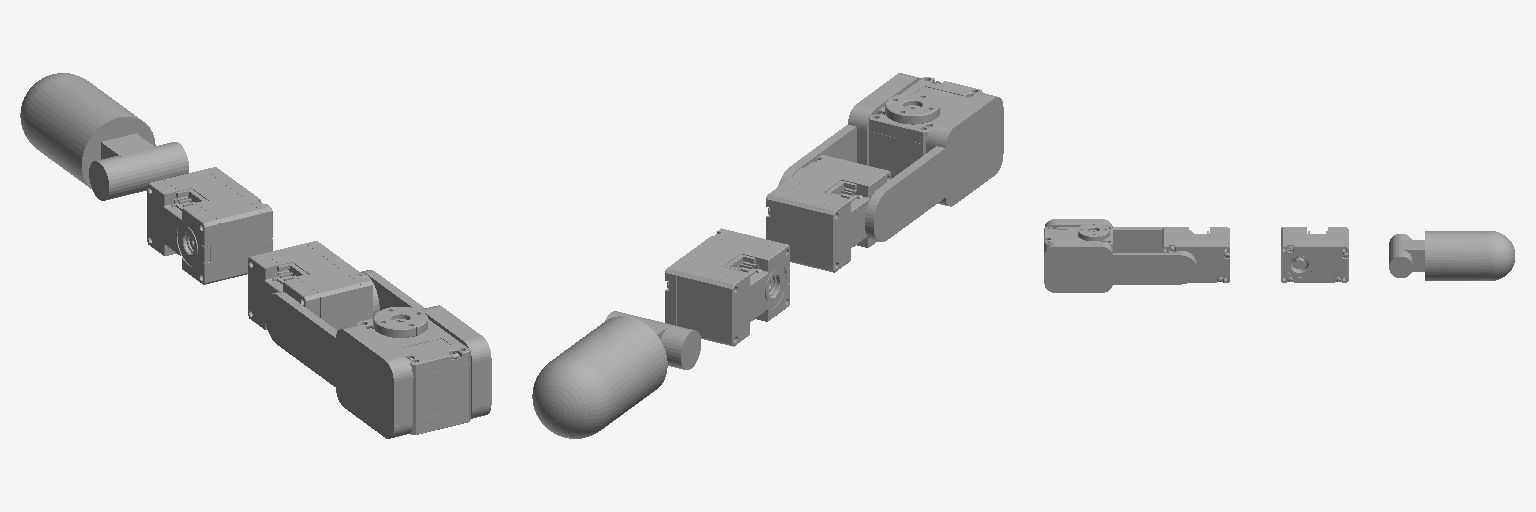
URDF robot description (URDF_finger_llll):
<?xml version="1.0" ?>
<robot name="URDF_finger_llll" xmlns:xacro="http://www.ros.org/wiki/xacro">

<link name="base_link">
  <inertial>
    <origin xyz="5.810609836920757e-14 -3.5557377263056094e-06 0.004698273696031688" rpy="0 0 0"/>
    <mass value="0.004531103214243681"/>
    <inertia ixx="0.0" iyy="0.0" izz="0.0" ixy="-0.0" iyz="-0.0" ixz="-0.0"/>
  </inertial>
  <visual>
    <origin xyz="0 0 0" rpy="0 0 0"/>
    <geometry>
      <mesh filename="package://longest/meshes/base_link.stl" scale="0.001 0.001 0.001"/>
    </geometry>
    <material name="silver">
        <color rgba="0.7 0.7 0.7 1"/>
      </material>
  </visual>
  <collision>
    <origin xyz="0 0 0" rpy="0 0 0"/>
    <geometry>
      <mesh filename="package://longest/meshes/base_link.stl" scale="0.001 0.001 0.001"/>
    </geometry>
  </collision>
</link>

<link name="MCP_spread_motor_1">
  <inertial>
    <origin xyz="4.40257654920099e-06 -0.0075382982459979535 -0.011349379478781948" rpy="0 0 0"/>
    <mass value="0.11379089624899982"/>
    <inertia ixx="1.6e-05" iyy="8e-06" izz="1.5e-05" ixy="0.0" iyz="0.0" ixz="-0.0"/>
  </inertial>
  <visual>
    <origin xyz="-0.0 0.0 -0.0036" rpy="0 0 0"/>
    <geometry>
      <mesh filename="package://longest/meshes/MCP_spread_motor_1.stl" scale="0.001 0.001 0.001"/>
    </geometry>
    <material name="silver">
        <color rgba="0.7 0.7 0.7 1"/>
      </material>
  </visual>
  <collision>
    <origin xyz="-0.0 0.0 -0.0036" rpy="0 0 0"/>
    <geometry>
      <mesh filename="package://longest/meshes/MCP_spread_motor_1.stl" scale="0.001 0.001 0.001"/>
    </geometry>
  </collision>
</link>

<link name="MCP_motor_1">
  <inertial>
    <origin xyz="-0.011349379464972085 0.00753829824657392 4.402565036948358e-06" rpy="0 0 0"/>
    <mass value="0.11379089638693089"/>
    <inertia ixx="1.5e-05" iyy="8e-06" izz="1.6e-05" ixy="-0.0" iyz="-0.0" ixz="-0.0"/>
  </inertial>
  <visual>
    <origin xyz="-0.0106 -0.0435 0.008" rpy="0 0 0"/>
    <geometry>
      <mesh filename="package://longest/meshes/MCP_motor_1.stl" scale="0.001 0.001 0.001"/>
    </geometry>
    <material name="silver">
        <color rgba="0.7 0.7 0.7 1"/>
      </material>
  </visual>
  <collision>
    <origin xyz="-0.0106 -0.0435 0.008" rpy="0 0 0"/>
    <geometry>
      <mesh filename="package://longest/meshes/MCP_motor_1.stl" scale="0.001 0.001 0.001"/>
    </geometry>
  </collision>
</link>

<link name="proximal_1">
  <inertial>
    <origin xyz="-0.008169135912463519 0.03727461554779869 -3.230055112268815e-15" rpy="0 0 0"/>
    <mass value="0.05275493771588791"/>
    <inertia ixx="1.6e-05" iyy="1.2e-05" izz="2.6e-05" ixy="0.0" iyz="-0.0" ixz="-0.0"/>
  </inertial>
  <visual>
    <origin xyz="-0.0105 -0.0435 0.008" rpy="0 0 0"/>
    <geometry>
      <mesh filename="package://longest/meshes/proximal_1.stl" scale="0.001 0.001 0.001"/>
    </geometry>
    <material name="silver">
        <color rgba="0.7 0.7 0.7 1"/>
      </material>
  </visual>
  <collision>
    <origin xyz="-0.0105 -0.0435 0.008" rpy="0 0 0"/>
    <geometry>
      <mesh filename="package://longest/meshes/proximal_1.stl" scale="0.001 0.001 0.001"/>
    </geometry>
  </collision>
</link>

<link name="PIP_DIP_motor_1">
  <inertial>
    <origin xyz="-0.011349379464972083 0.007538298247408273 4.402565036993461e-06" rpy="0 0 0"/>
    <mass value="0.11379089638693095"/>
    <inertia ixx="1.5e-05" iyy="8e-06" izz="1.6e-05" ixy="-0.0" iyz="-0.0" ixz="-0.0"/>
  </inertial>
  <visual>
    <origin xyz="-0.0106 -0.1025 0.008" rpy="0 0 0"/>
    <geometry>
      <mesh filename="package://longest/meshes/PIP_DIP_motor_1.stl" scale="0.001 0.001 0.001"/>
    </geometry>
    <material name="silver">
        <color rgba="0.7 0.7 0.7 1"/>
      </material>
  </visual>
  <collision>
    <origin xyz="-0.0106 -0.1025 0.008" rpy="0 0 0"/>
    <geometry>
      <mesh filename="package://longest/meshes/PIP_DIP_motor_1.stl" scale="0.001 0.001 0.001"/>
    </geometry>
  </collision>
</link>

<link name="middle_1">
  <inertial>
    <origin xyz="-0.008827081354573583 0.03128096306151058 1.214306433183765e-17" rpy="0 0 0"/>
    <mass value="0.041818234501644305"/>
    <inertia ixx="9e-06" iyy="1e-05" izz="1.6e-05" ixy="1e-06" iyz="-0.0" ixz="-0.0"/>
  </inertial>
  <visual>
    <origin xyz="-0.0105 -0.1025 0.008" rpy="0 0 0"/>
    <geometry>
      <mesh filename="package://longest/meshes/middle_1.stl" scale="0.001 0.001 0.001"/>
    </geometry>
    <material name="silver">
        <color rgba="0.7 0.7 0.7 1"/>
      </material>
  </visual>
  <collision>
    <origin xyz="-0.0105 -0.1025 0.008" rpy="0 0 0"/>
    <geometry>
      <mesh filename="package://longest/meshes/middle_1.stl" scale="0.001 0.001 0.001"/>
    </geometry>
  </collision>
</link>

<link name="distal_1">
  <inertial>
    <origin xyz="-0.013499999999999996 0.02735449827278072 3.469446951953614e-18" rpy="0 0 0"/>
    <mass value="0.18955441844471713"/>
    <inertia ixx="5.4e-05" iyy="1.4e-05" izz="5.5e-05" ixy="0.0" iyz="-0.0" ixz="0.0"/>
  </inertial>
  <visual>
    <origin xyz="-0.0135 -0.153 0.008" rpy="0 0 0"/>
    <geometry>
      <mesh filename="package://longest/meshes/distal_1.stl" scale="0.001 0.001 0.001"/>
    </geometry>
    <material name="silver">
        <color rgba="0.7 0.7 0.7 1"/>
      </material>
  </visual>
  <collision>
    <origin xyz="-0.0135 -0.153 0.008" rpy="0 0 0"/>
    <geometry>
      <mesh filename="package://longest/meshes/distal_1.stl" scale="0.001 0.001 0.001"/>
    </geometry>
  </collision>
</link>

<link name="metacarpal_1">
  <inertial>
    <origin xyz="0.00044378321626828974 0.0038849382654235335 -0.011500000000001412" rpy="0 0 0"/>
    <mass value="0.11944139301006772"/>
    <inertia ixx="5.5e-05" iyy="2.8e-05" izz="7.3e-05" ixy="-2e-06" iyz="-0.0" ixz="-0.0"/>
  </inertial>
  <visual>
    <origin xyz="-0.0 -0.0 -0.0035" rpy="0 0 0"/>
    <geometry>
      <mesh filename="package://longest/meshes/metacarpal_1.stl" scale="0.001 0.001 0.001"/>
    </geometry>
    <material name="silver">
        <color rgba="0.7 0.7 0.7 1"/>
      </material>
  </visual>
  <collision>
    <origin xyz="-0.0 -0.0 -0.0035" rpy="0 0 0"/>
    <geometry>
      <mesh filename="package://longest/meshes/metacarpal_1.stl" scale="0.001 0.001 0.001"/>
    </geometry>
  </collision>
</link>

<joint name="MCP_spread" type="continuous">
  <origin xyz="0.0 0.0 0.0036" rpy="0 0 0"/>
  <parent link="base_link"/>
  <child link="MCP_spread_motor_1"/>
  <axis xyz="0.0 0.0 -1.0"/>
</joint>

<joint name="MCP" type="continuous">
  <origin xyz="0.0106 0.0435 -0.0115" rpy="0 0 0"/>
  <parent link="metacarpal_1"/>
  <child link="MCP_motor_1"/>
  <axis xyz="-1.0 -0.0 -0.0"/>
</joint>

<joint name="Proximal_to_motor" type="fixed">
  <origin xyz="-0.0001 0.0 0.0" rpy="0 0 0"/>
  <parent link="MCP_motor_1"/>
  <child link="proximal_1"/>
</joint>

<joint name="PIP" type="continuous">
  <origin xyz="0.0001 0.059 0.0" rpy="0 0 0"/>
  <parent link="proximal_1"/>
  <child link="PIP_DIP_motor_1"/>
  <axis xyz="-1.0 -0.0 0.0"/>
</joint>

<joint name="Middle_to_motor" type="fixed">
  <origin xyz="-0.0001 0.0 0.0" rpy="0 0 0"/>
  <parent link="PIP_DIP_motor_1"/>
  <child link="middle_1"/>
</joint>

<joint name="DIP" type="continuous">
  <origin xyz="0.003 0.0505 0.0" rpy="0 0 0"/>
  <parent link="middle_1"/>
  <child link="distal_1"/>
  <axis xyz="1.0 0.0 -0.0"/>
</joint>

<joint name="Metacarpal_to_motor" type="fixed">
  <origin xyz="0.0 0.0 -0.0001" rpy="0 0 0"/>
  <parent link="MCP_spread_motor_1"/>
  <child link="metacarpal_1"/>
</joint>

</robot>

--- Facts derived from the render (not from the file) ---
3 views of the same robot in one strip: view 1: azimuth 30°, elevation 25°; view 2: azimuth 150°, elevation 25°; view 3: azimuth 270°, elevation 25° (orthographic).
Model URDF_finger_llll with 8 links and 7 joints (4 continuous, 3 fixed), rooted at base_link, posed every joint at zero.
Links seen in each view (by area): view 1: metacarpal_1, distal_1, PIP_DIP_motor_1, MCP_motor_1, MCP_spread_motor_1, base_link; view 2: metacarpal_1, distal_1, PIP_DIP_motor_1, MCP_motor_1, MCP_spread_motor_1, base_link; view 3: metacarpal_1, distal_1, PIP_DIP_motor_1, MCP_motor_1, MCP_spread_motor_1.
Boxes of the visible links, x1=… form: metacarpal_1: x1=264, y1=270, x2=491, y2=438; distal_1: x1=20, y1=73, x2=188, y2=200; PIP_DIP_motor_1: x1=147, y1=167, x2=272, y2=284; MCP_motor_1: x1=248, y1=241, x2=372, y2=330; MCP_spread_motor_1: x1=357, y1=319, x2=470, y2=434; base_link: x1=373, y1=307, x2=427, y2=337; metacarpal_1: x1=778, y1=73, x2=1003, y2=241; distal_1: x1=532, y1=311, x2=700, y2=438; PIP_DIP_motor_1: x1=665, y1=228, x2=789, y2=346; MCP_motor_1: x1=766, y1=155, x2=890, y2=272; MCP_spread_motor_1: x1=869, y1=77, x2=982, y2=178; base_link: x1=885, y1=93, x2=939, y2=124; metacarpal_1: x1=1044, y1=219, x2=1196, y2=292; distal_1: x1=1389, y1=231, x2=1514, y2=280; PIP_DIP_motor_1: x1=1281, y1=227, x2=1348, y2=282; MCP_motor_1: x1=1162, y1=227, x2=1229, y2=282; MCP_spread_motor_1: x1=1044, y1=227, x2=1112, y2=250.
Bounding box of the posed robot: 0.033 × 0.2345 × 0.027 m (x, y, z).
Meshes: 8 distinct files referenced, 6 mesh visuals loaded (6 binary STL); not drawn: 2 (reference not matched to a file when rendering).
